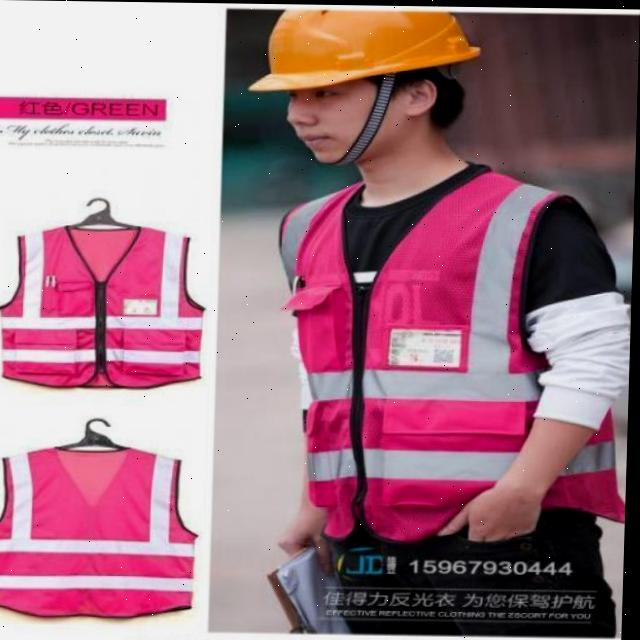Helmet: (248, 6, 484, 94)
No-Glove: (433, 448, 581, 557)
Safety-Vest: (273, 159, 636, 548), (0, 219, 210, 389)
